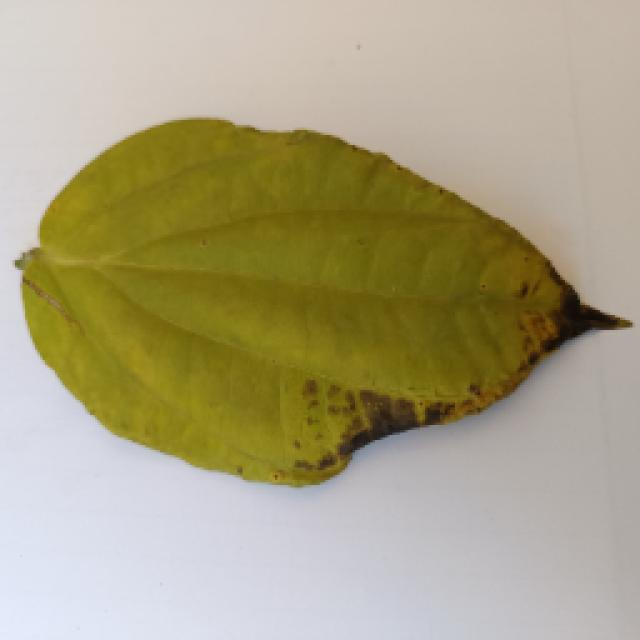slow-decline: (5, 118, 620, 490)
